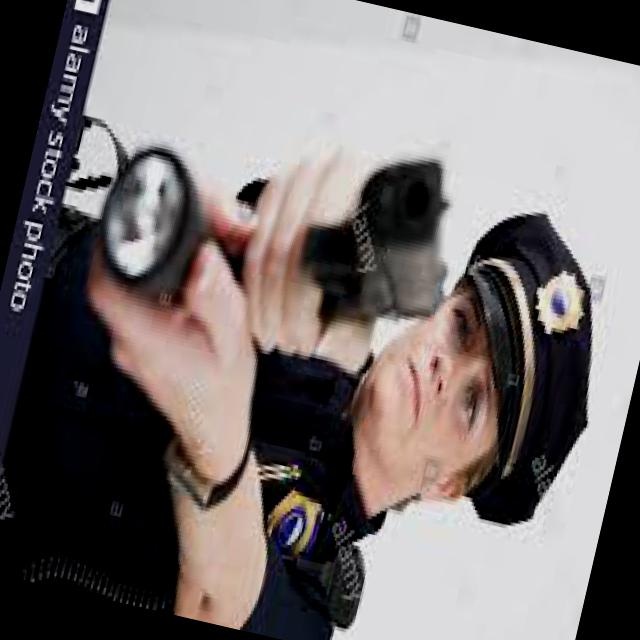handgun: (274, 114, 486, 353)
